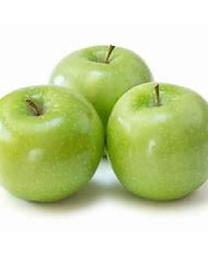apple: (0, 84, 104, 202), (105, 81, 207, 201), (47, 43, 152, 119)
